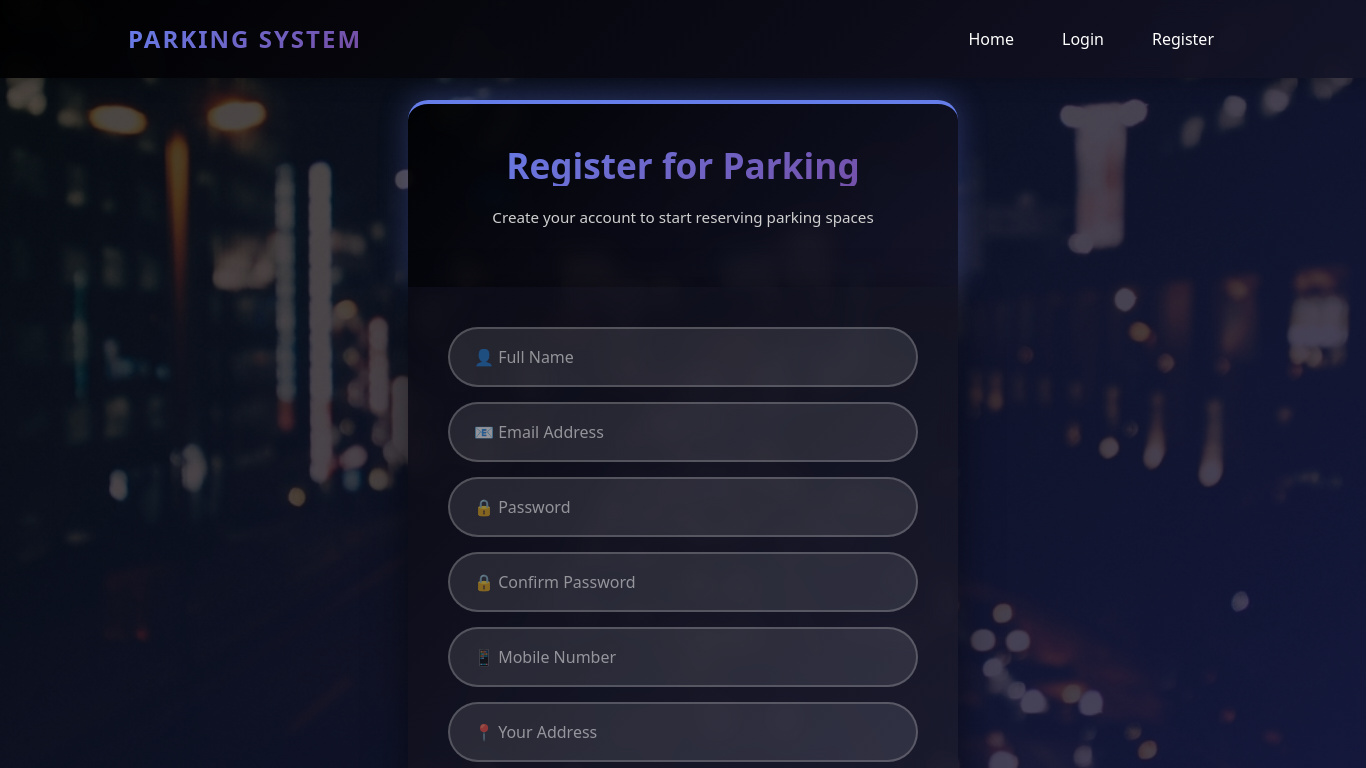
Test: Register › should show error when passwords do not match
The image size is (1366, 768).
Type "Test User" into the field with placeholder "👤 Full Name". click: (683, 357)
box: [448,327,918,387]
Type "test@test.com" into the field with placeholder "📧 Email Address". click: (683, 432)
box: [448,402,918,462]
Type "Password@123" into the password field with placeholder "🔒 Password". click: (683, 507)
box: [448,477,918,537]
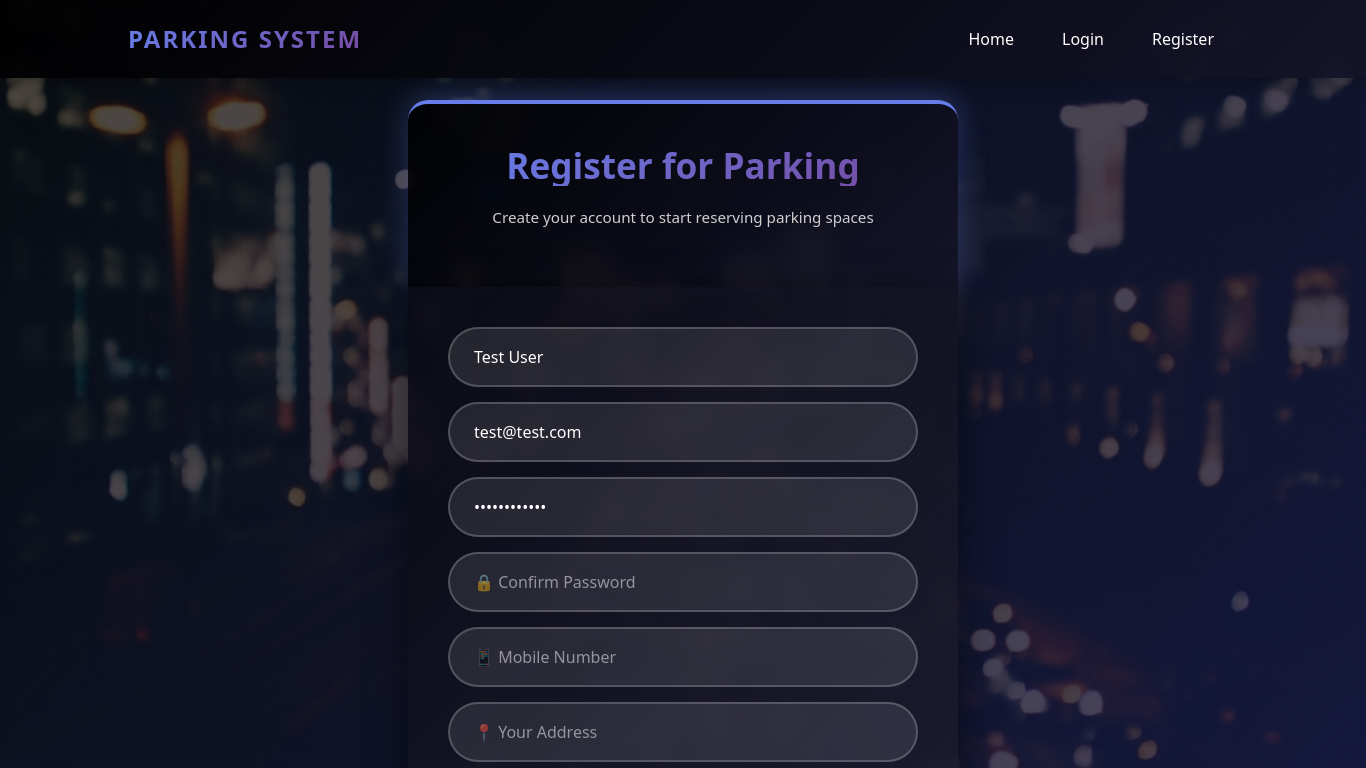
Type "DifferentPassword@123" into the password field with placeholder "🔒 Confirm Password". click: (683, 582)
box: [448,552,918,612]
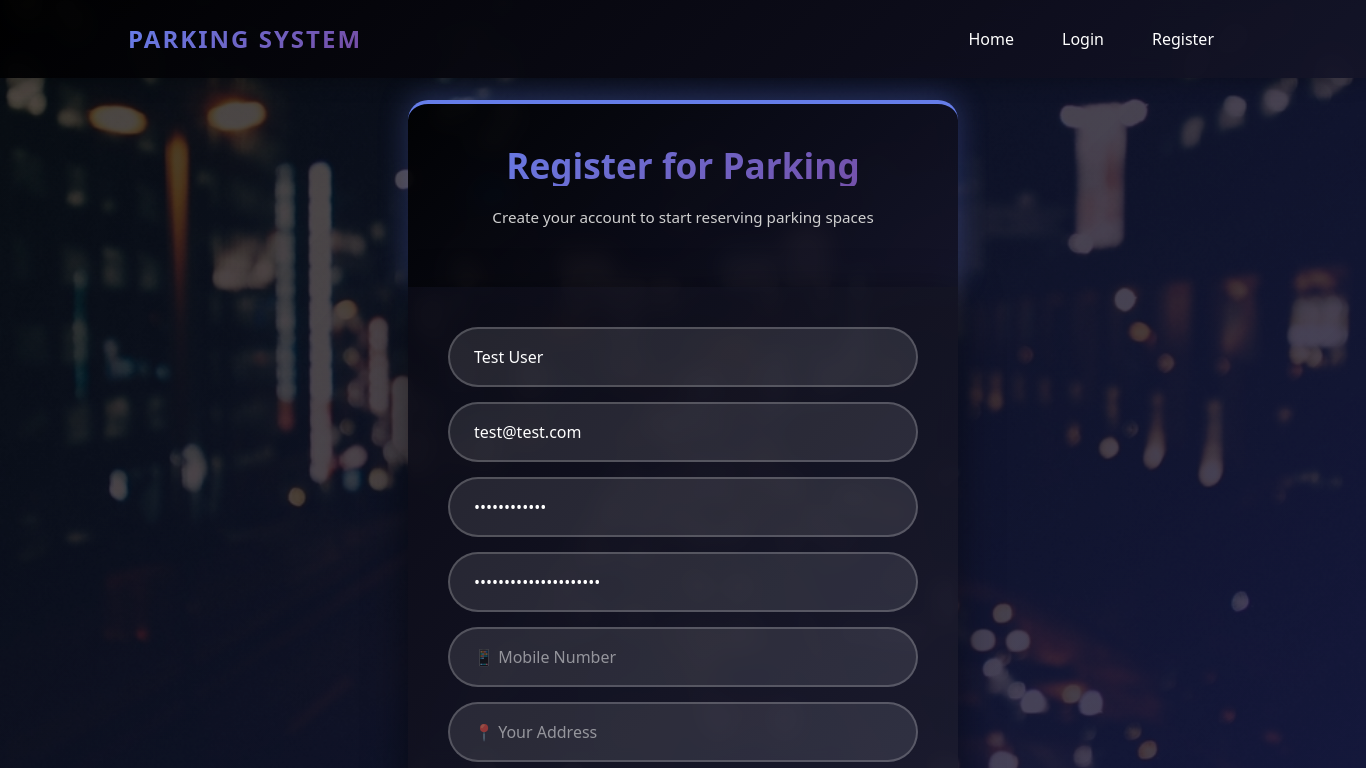
Type "1234567890" into the field with placeholder "📱 Mobile Number". click: (683, 657)
box: [448,627,918,687]
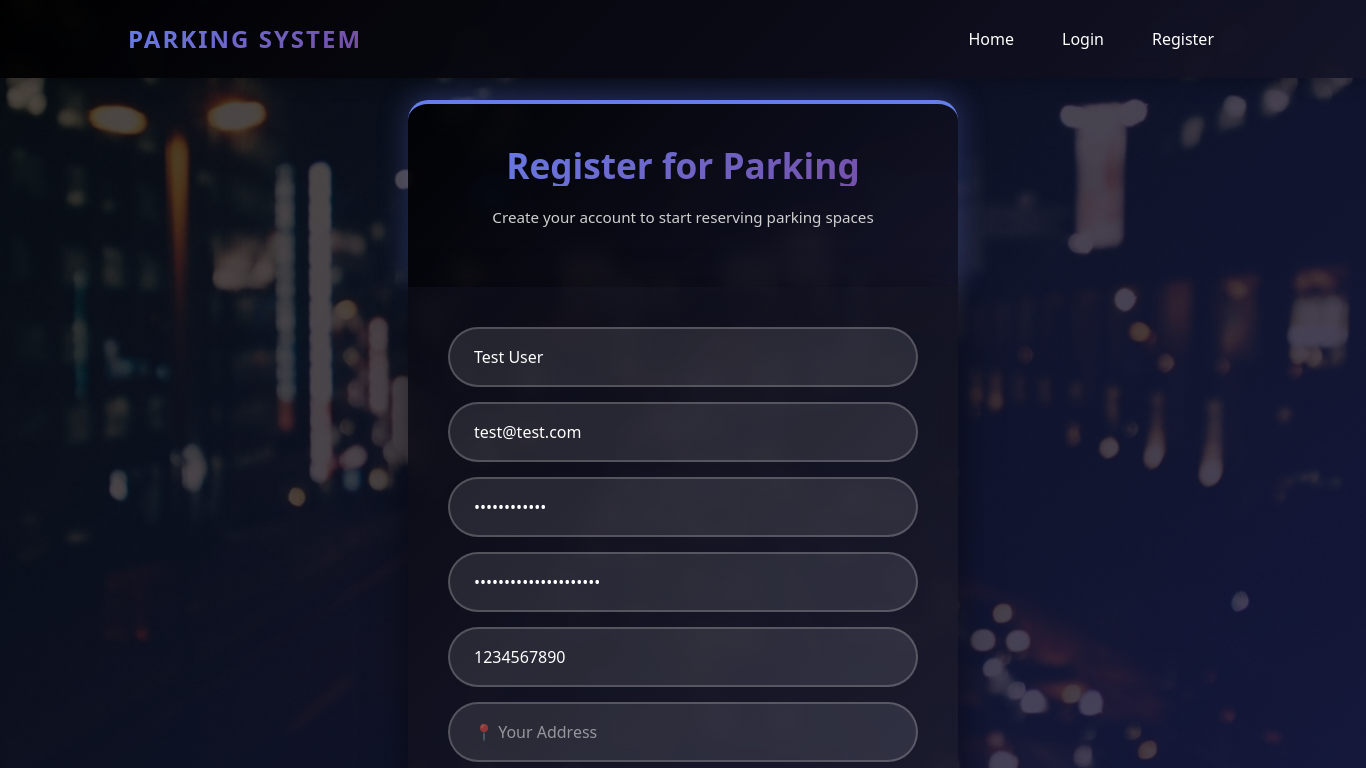
Type "123 Test St" into the field with placeholder "📍 Your Address". click: (683, 732)
box: [448,702,918,762]
(page scrolled)
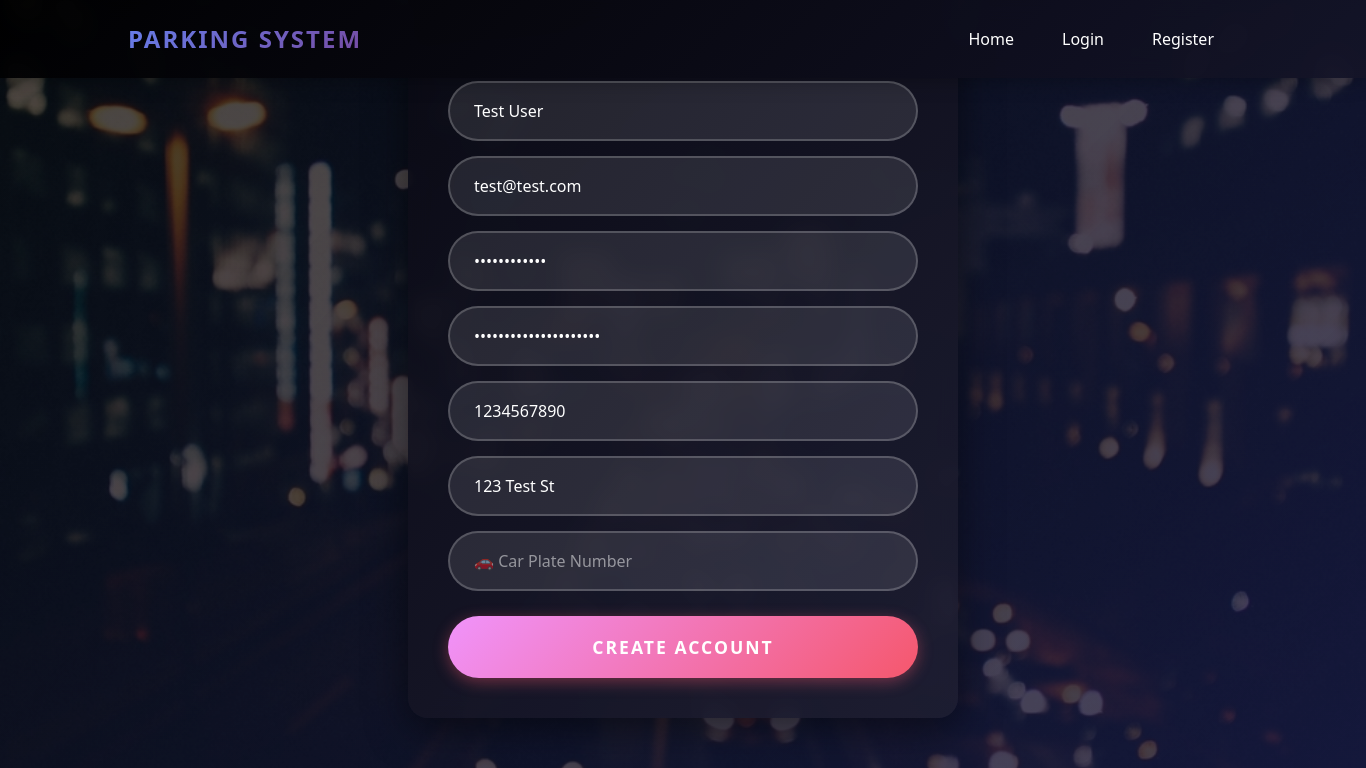
Type "ABC123" into the field with placeholder "🚗 Car Plate Number". click: (683, 561)
box: [448,531,918,591]
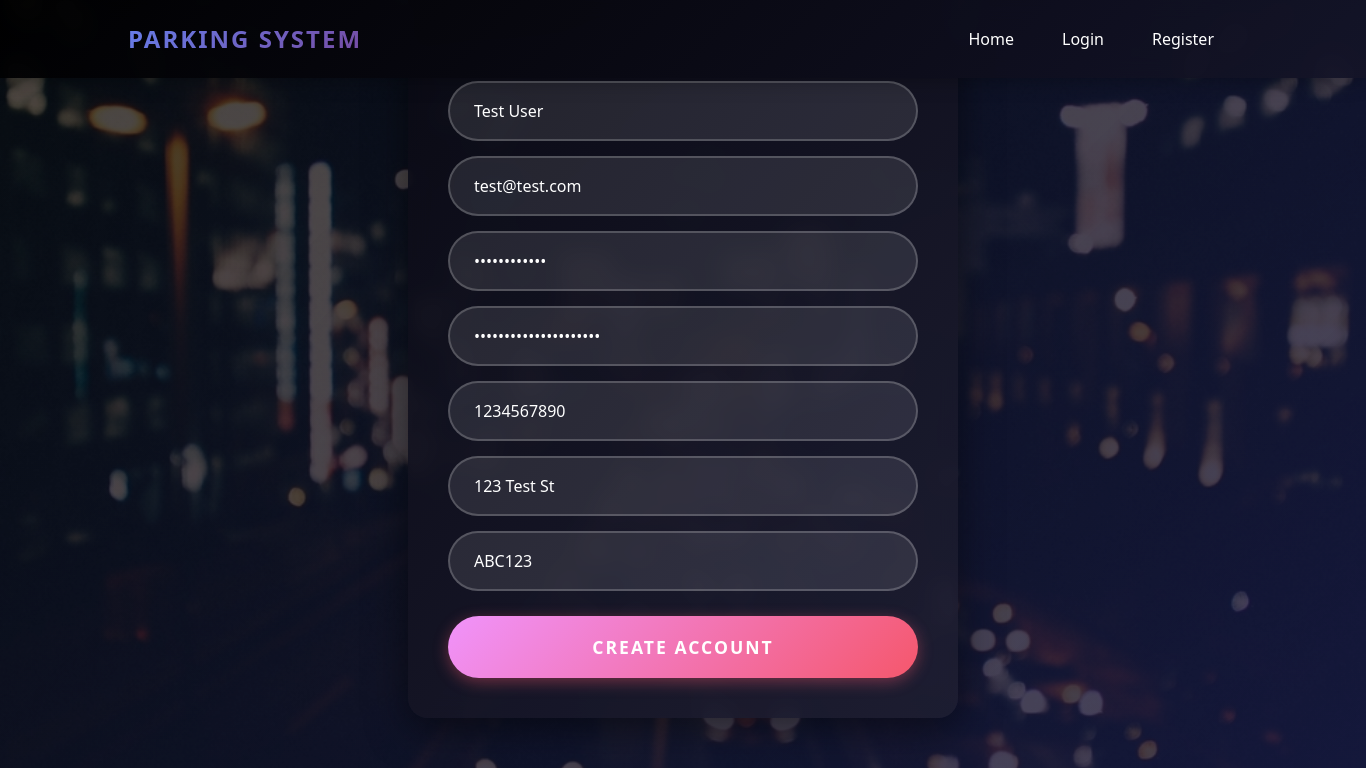
Click the button "CREATE ACCOUNT". click: (683, 647)
box: [448,616,918,678]
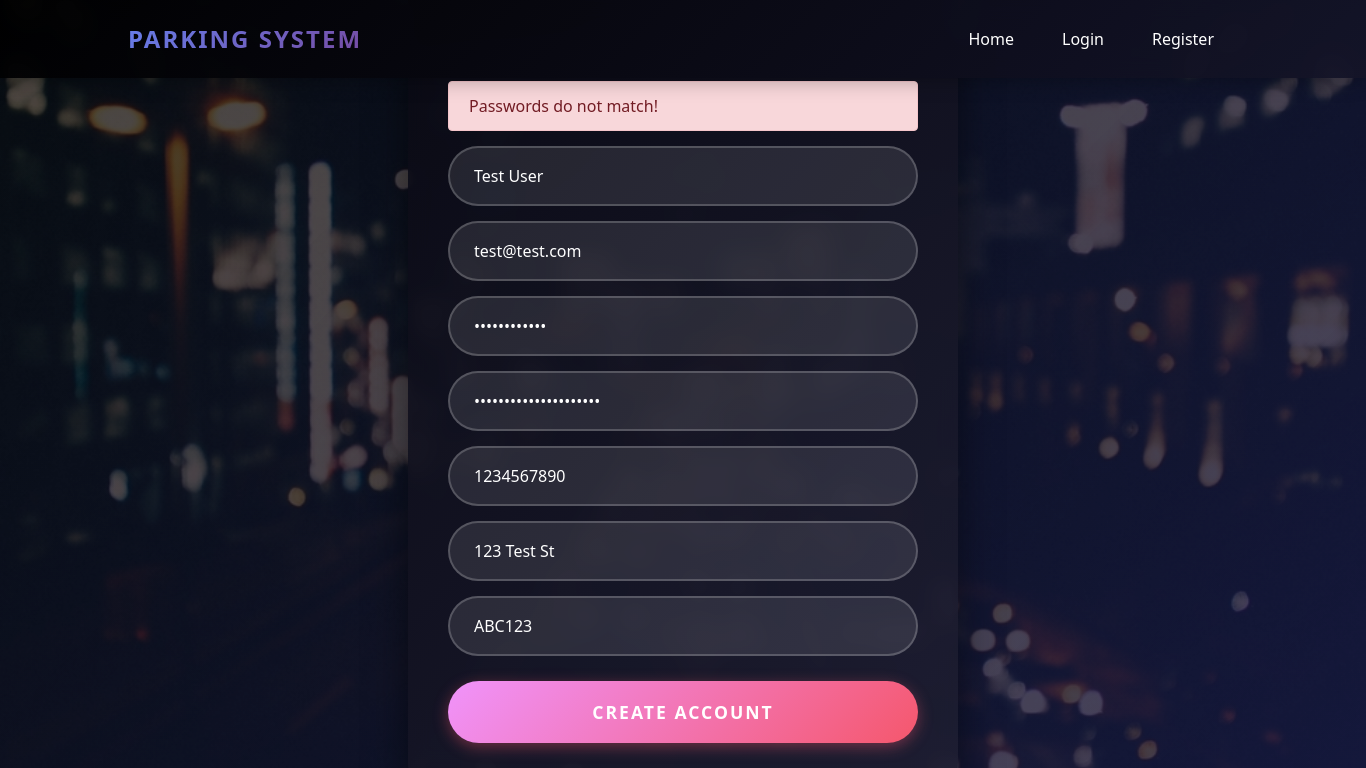
Expected: the text "Passwords do not match!" is shown, [448,81,918,131]
